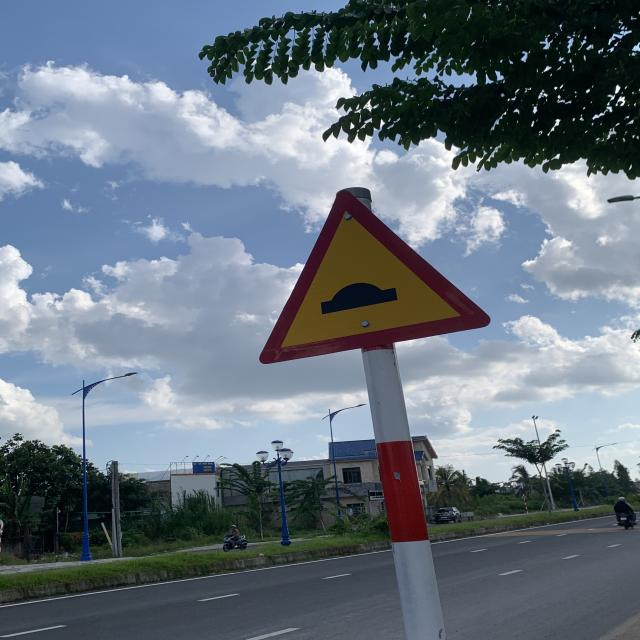Duong_Cong_Ben_Phai: (261, 194, 488, 360)
